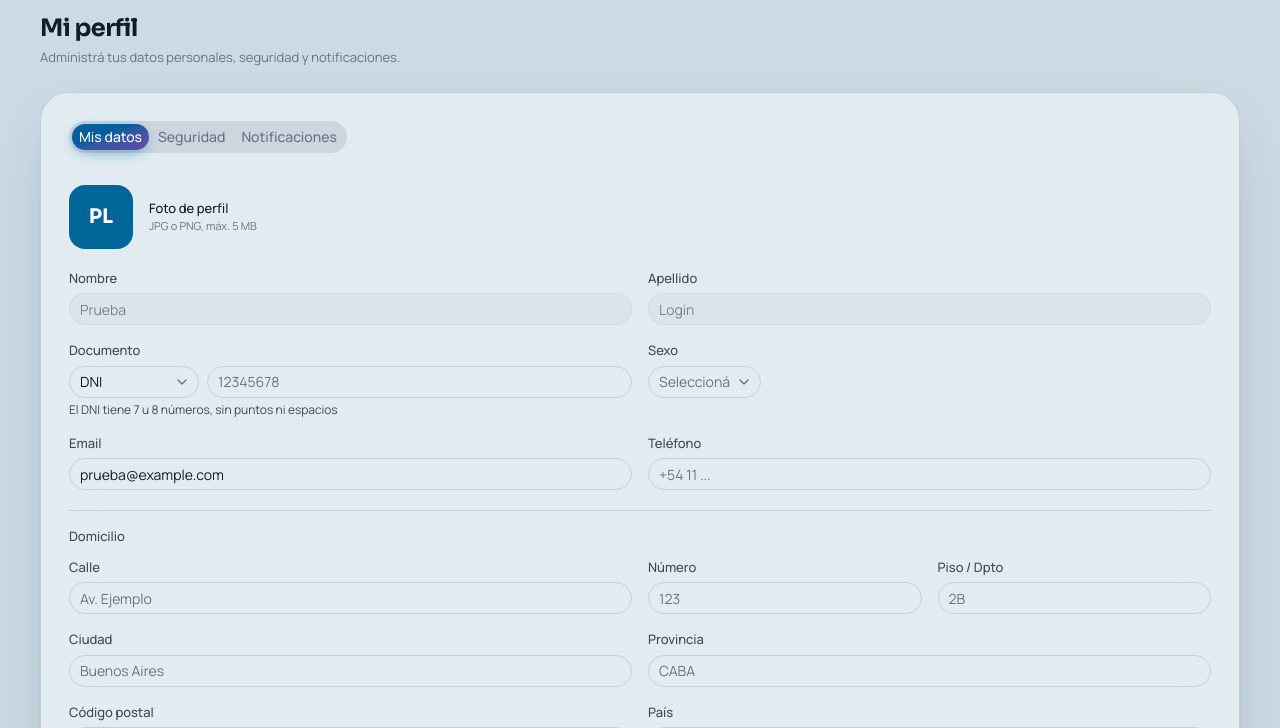
Test case: MiPerfil — cambiar contraseña › warns that every session was closed and signs the user out after a successful change
Click the tab "Seguridad". click: [192, 136]
box: [151,124,232,149]
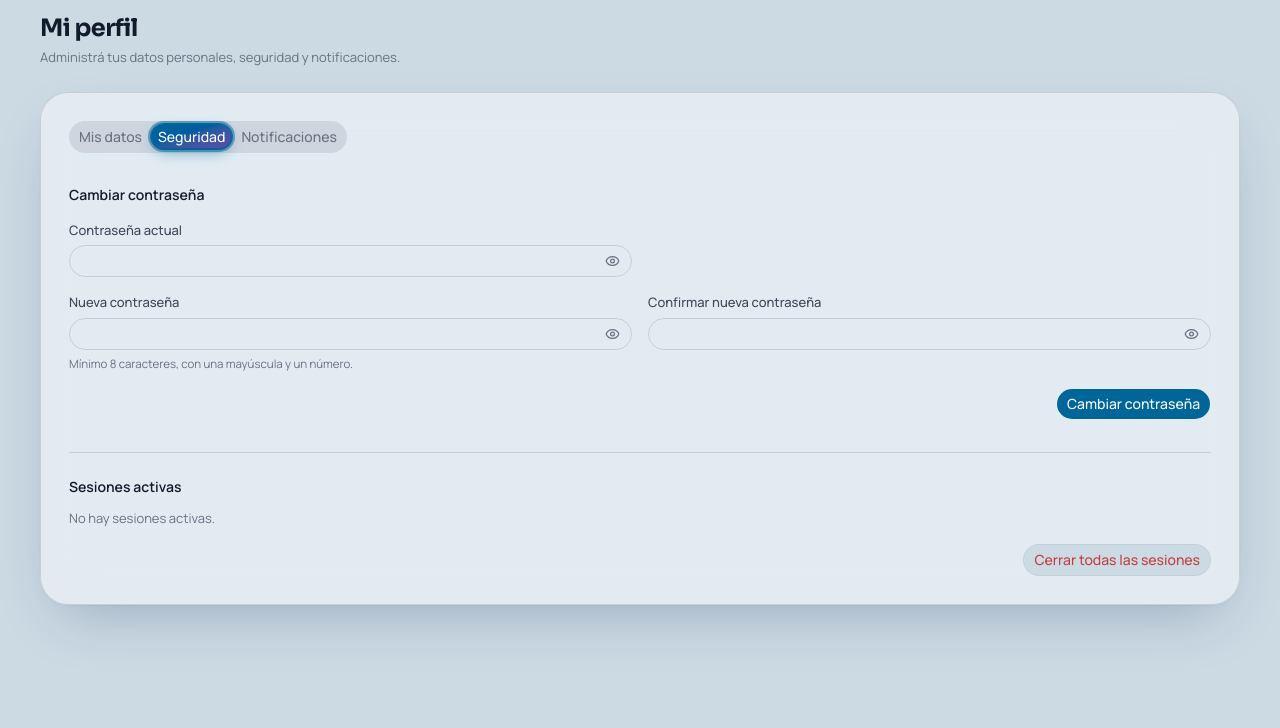
Type "Actual123" into the password field below "Contraseña actual". click: [350, 261]
box: [69,245,632,277]
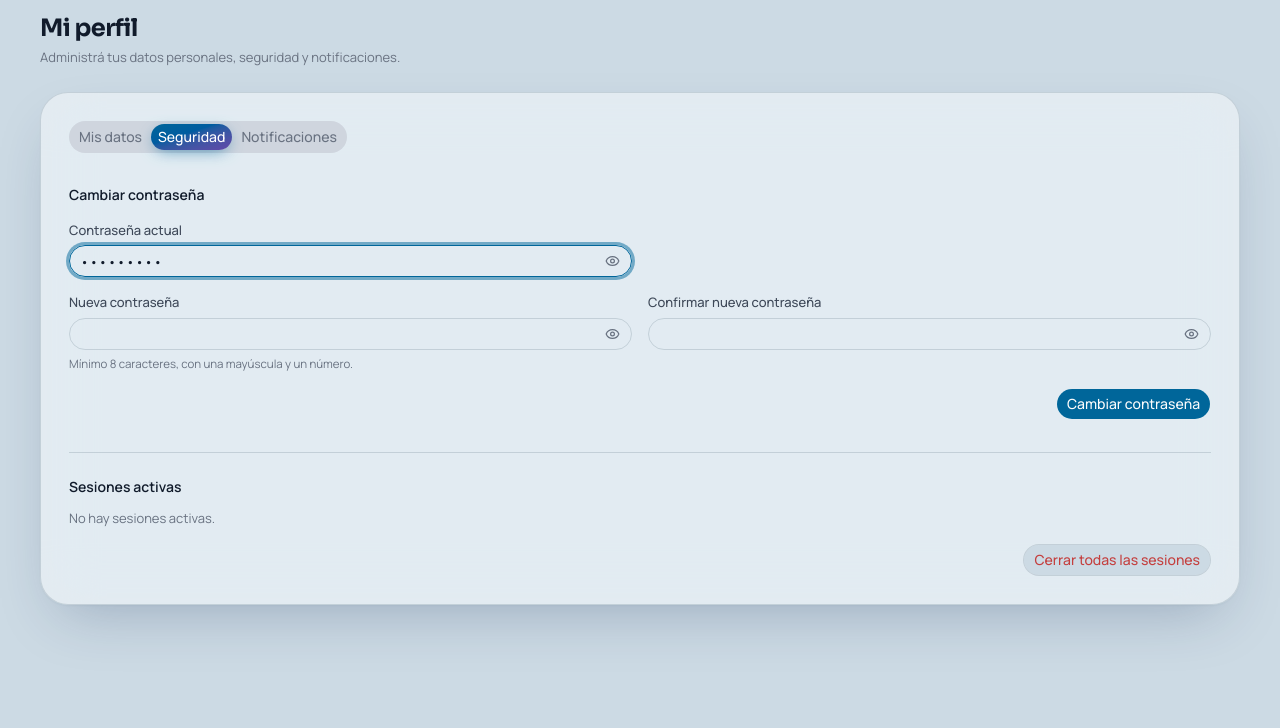
Type "Nueva1234" into the 2nd password field. click: [350, 334]
box: [69,318,632,350]
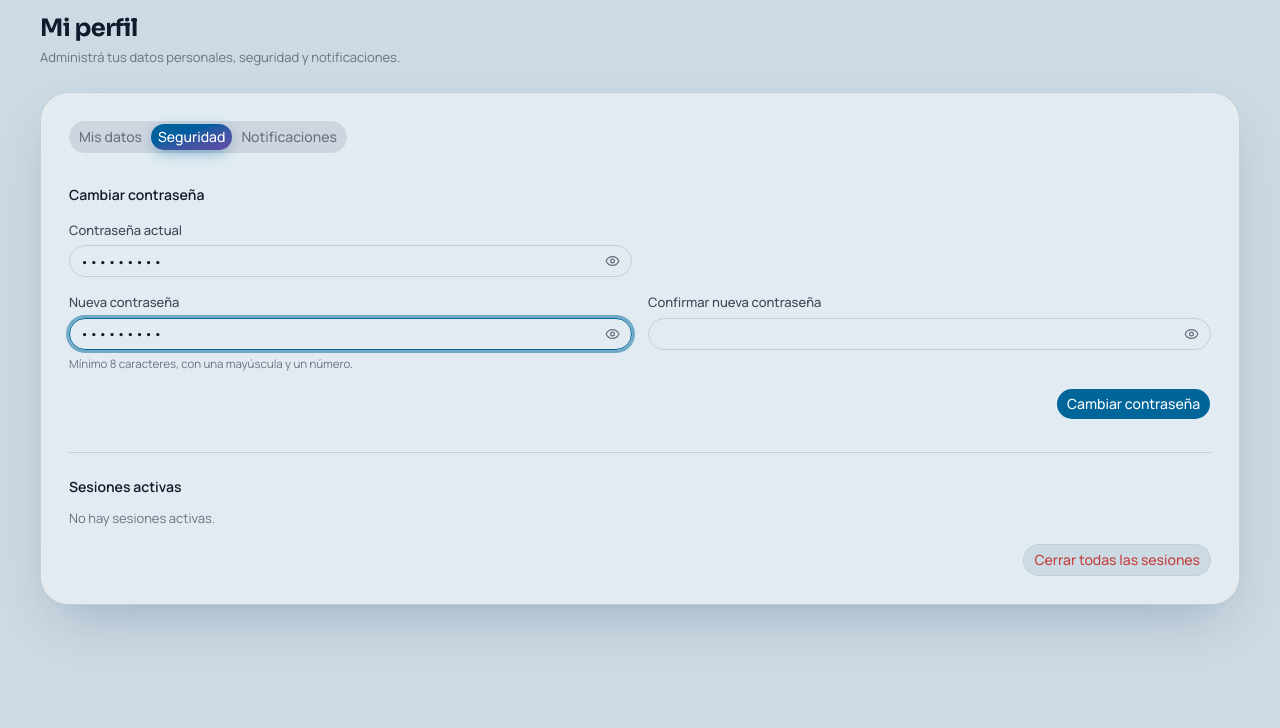
Type "Nueva1234" into the password field below "Confirmar nueva contraseña". click: [930, 334]
box: [648,318,1211,350]
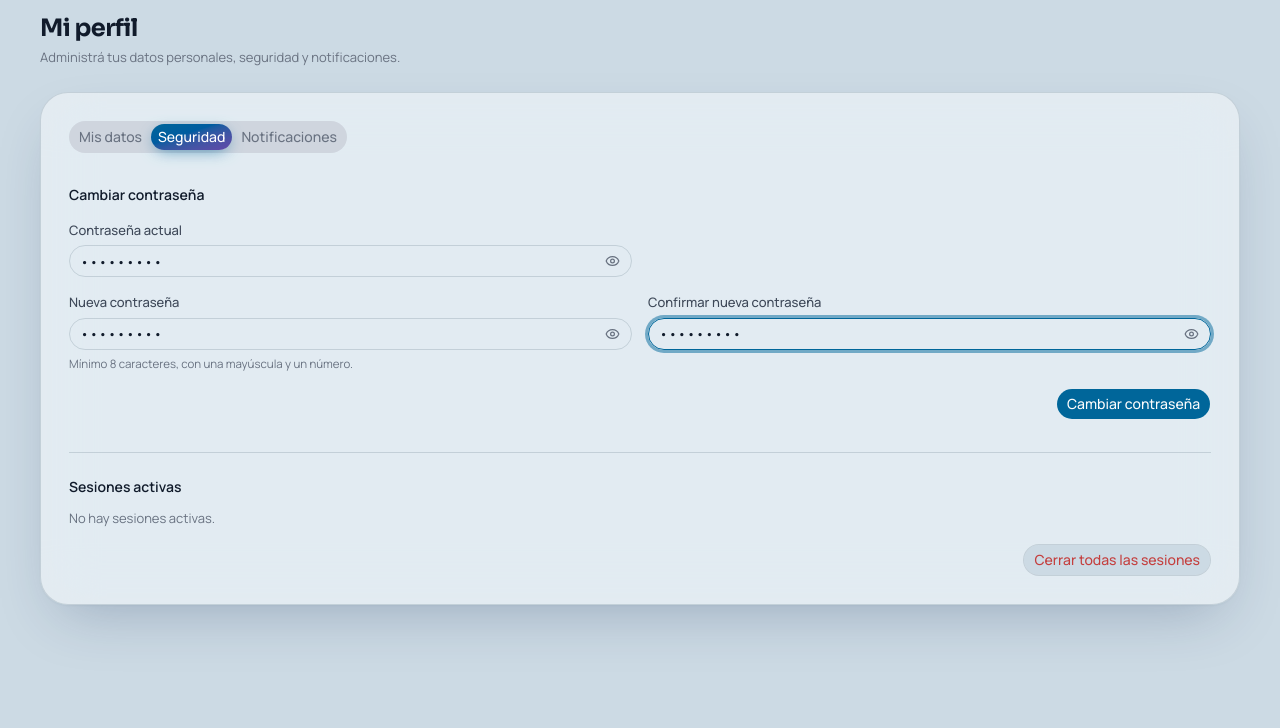
Click the button "Cambiar contraseña". click: [1133, 404]
box: [1056,388,1211,420]
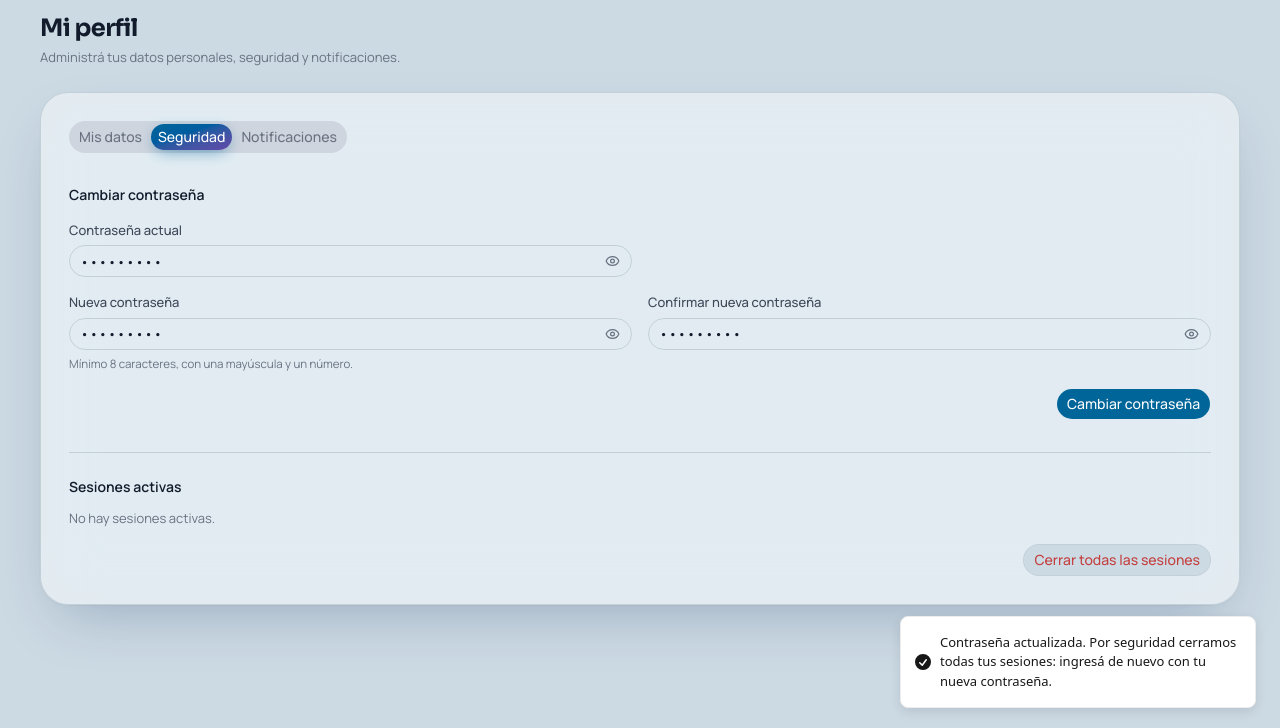
Expected: the text "Contraseña actualizada. Por seguridad cerramos todas tus sesiones: ingresá de nuevo con tu nueva contraseña." is shown, [940,632,1236,690]
